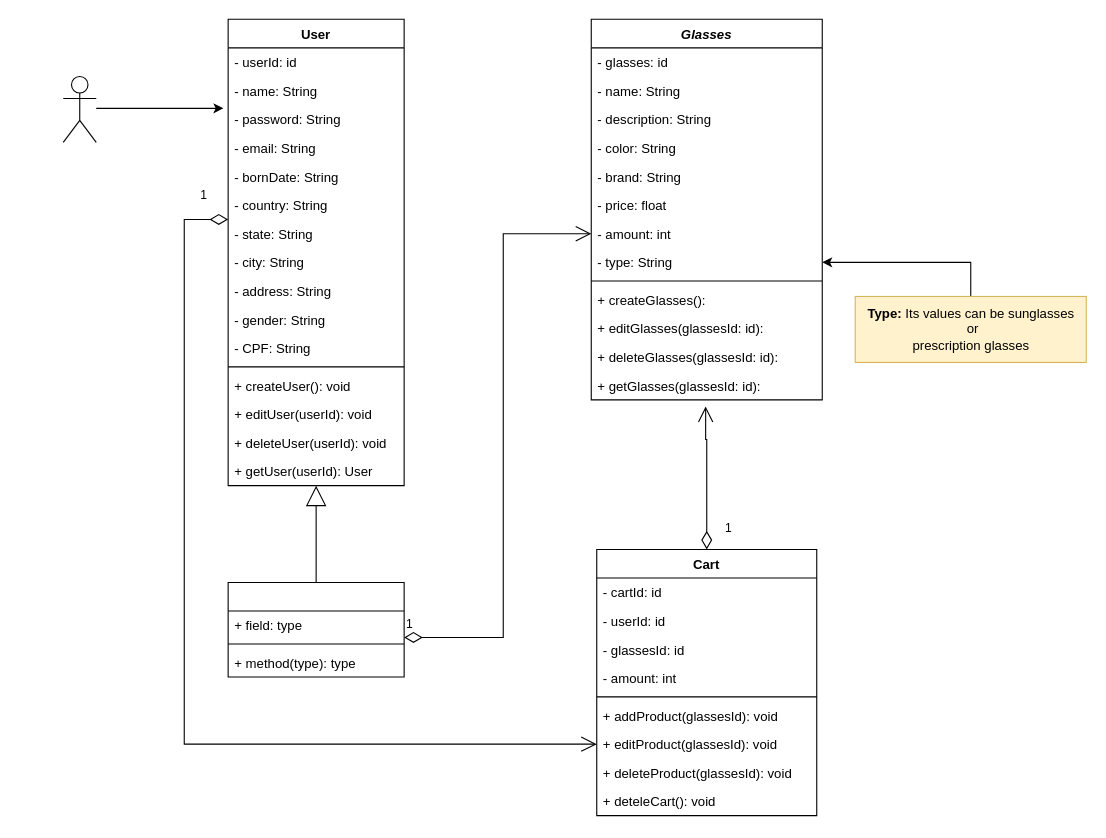
The diagram is 1106 pixels wide and 838 high, and some of its shapes have lost their labels. The box of each missing label's shape, as (x1, y1, x2, y2) in pixels:
AdminUser: (227, 581, 404, 677)
Non autheticate user: (62, 75, 96, 142)
